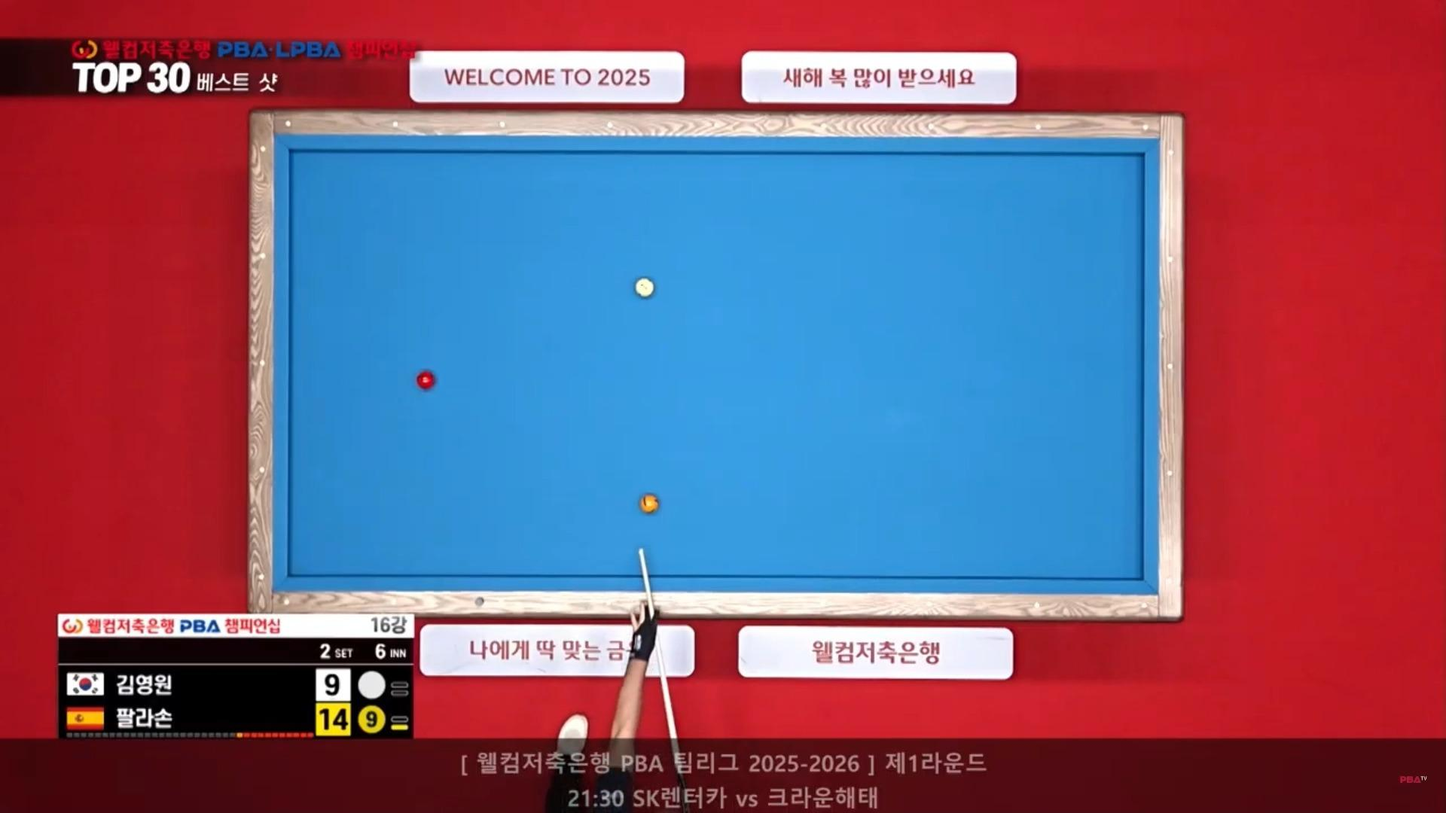Red: (413, 371, 437, 389)
White: (633, 277, 657, 298)
billiard-ball-Yellow: (638, 490, 661, 515)
